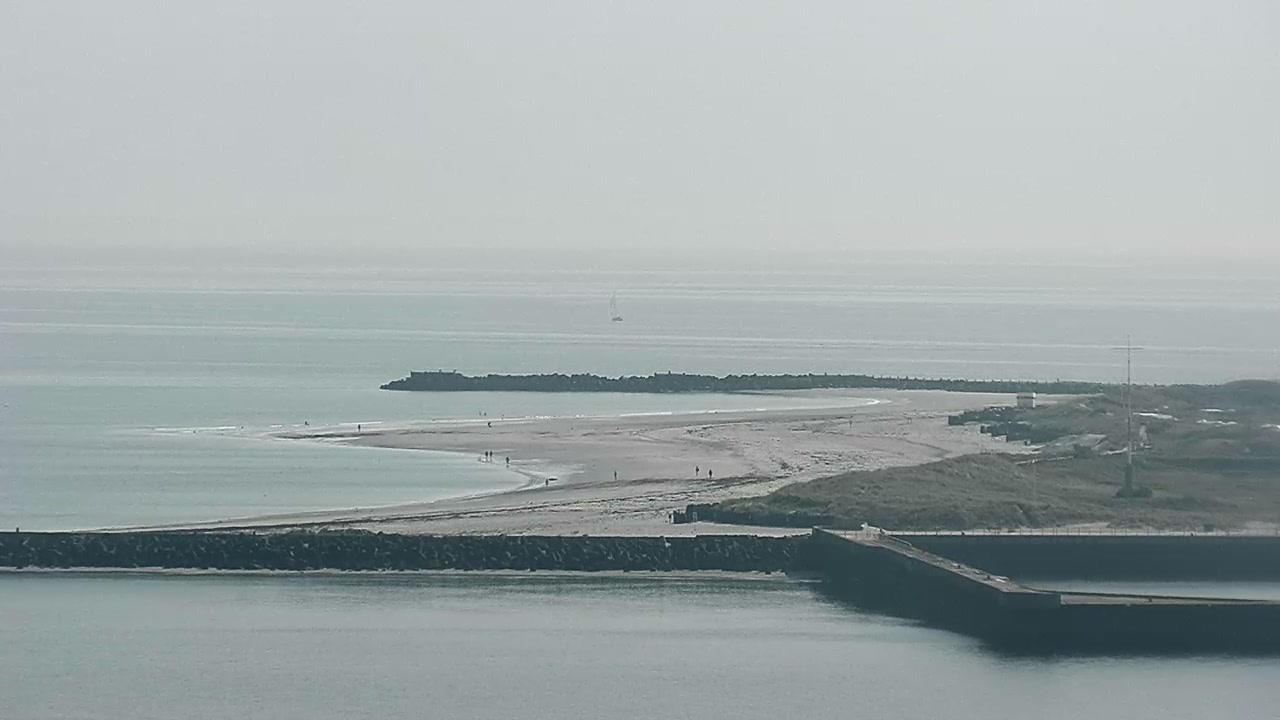human: (694, 464, 700, 477), (708, 468, 714, 479), (484, 448, 489, 459), (488, 449, 494, 458), (505, 455, 510, 465), (544, 477, 549, 487), (613, 470, 618, 480), (357, 423, 361, 433), (487, 421, 492, 429)
sea: (605, 288, 621, 322)
